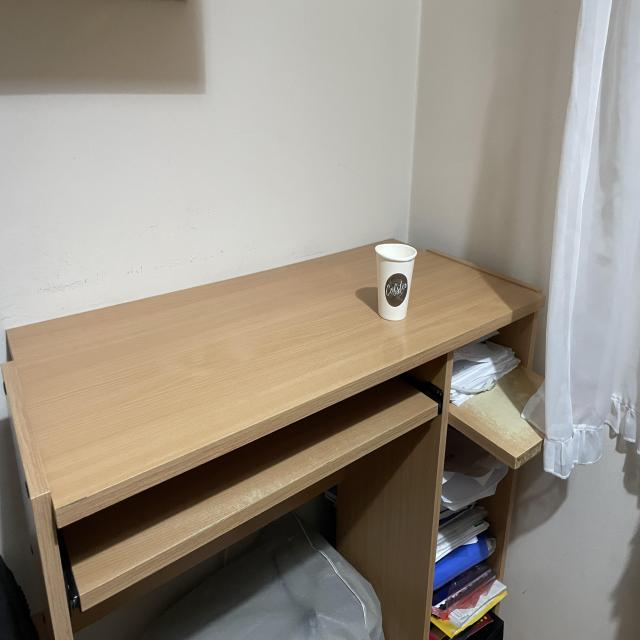cup: (375, 235, 420, 322)
